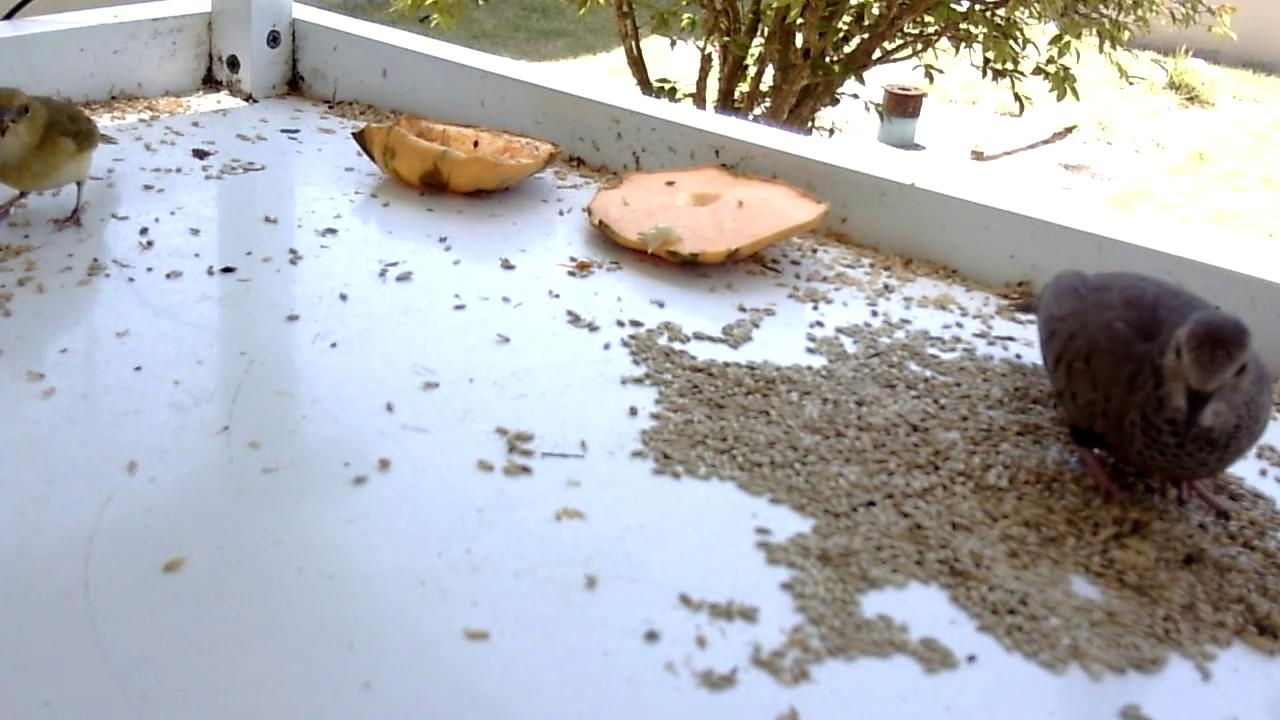canario_do_amazonas: (1, 84, 121, 237)
rolinha: (1032, 267, 1280, 517)
